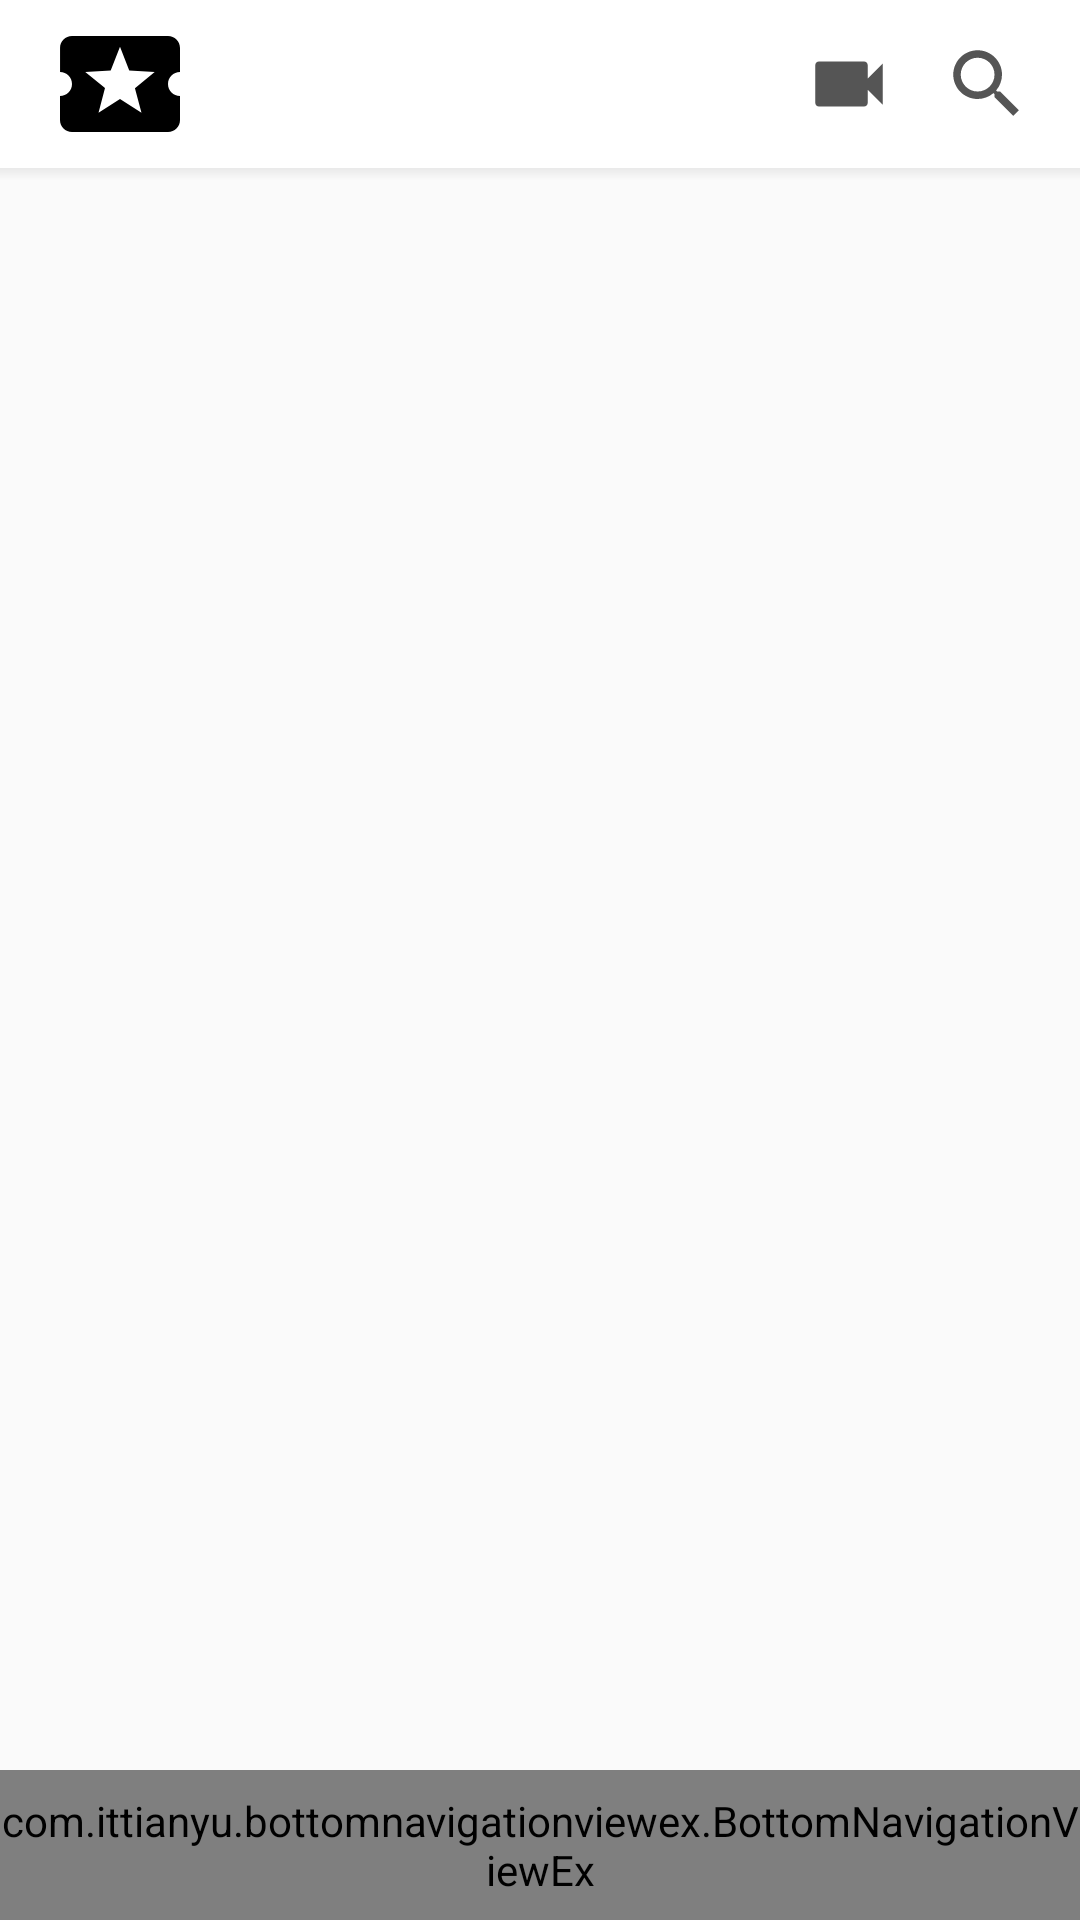

Named icons in this screenshot (1080 x 1920) and their centers, (x,y):
local activity: (120,84)
search: (986,83)
video: (849,84)
